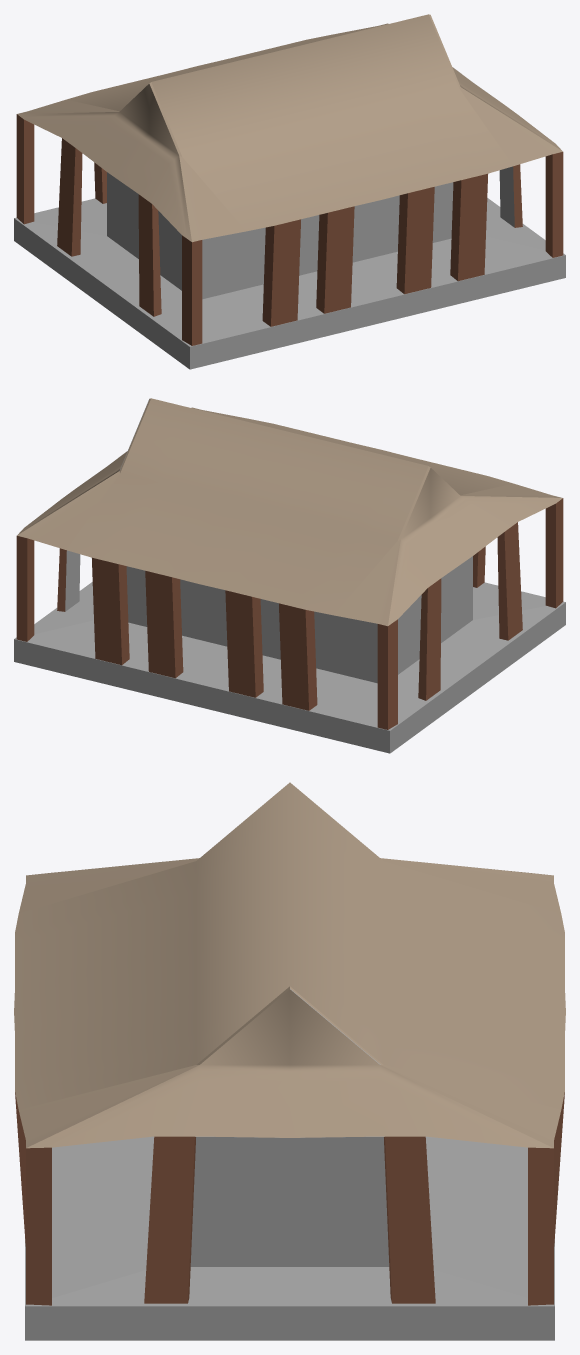
Rendered from House.fbx.
The picture shows the model from 3 angles, top to bottom: view 1: azimuth 30°, elevation 25°; view 2: azimuth 150°, elevation 25°; view 3: azimuth 270°, elevation 25°; orthographic projection. The views are drawn at different scales.
Visible parts, largest first — view 1: House; view 2: House; view 3: House.
Part boxes in pixels (box(x1,y1,x2,y2)): House: box(14, 14, 565, 369); House: box(14, 398, 565, 753); House: box(14, 782, 565, 1340).
Bounding box in the file's own units: 37.51 × 20.33 × 31.65.
